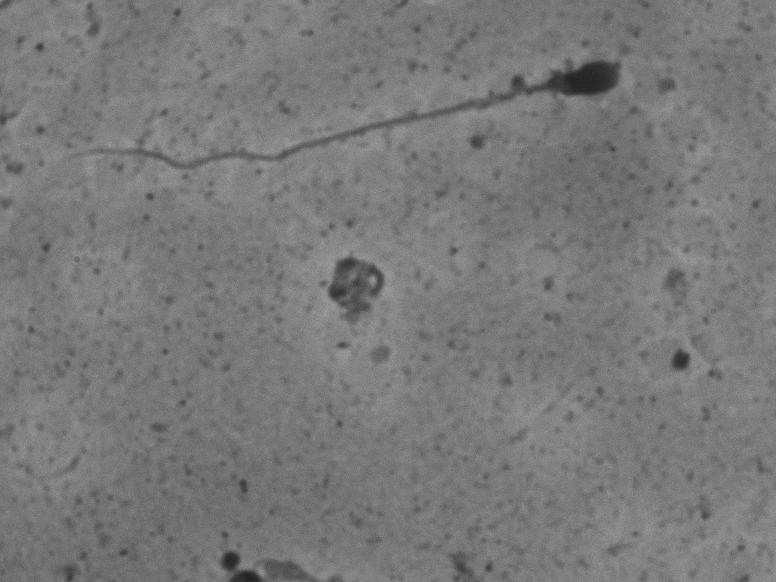Abnormal: (25, 52, 664, 182)
